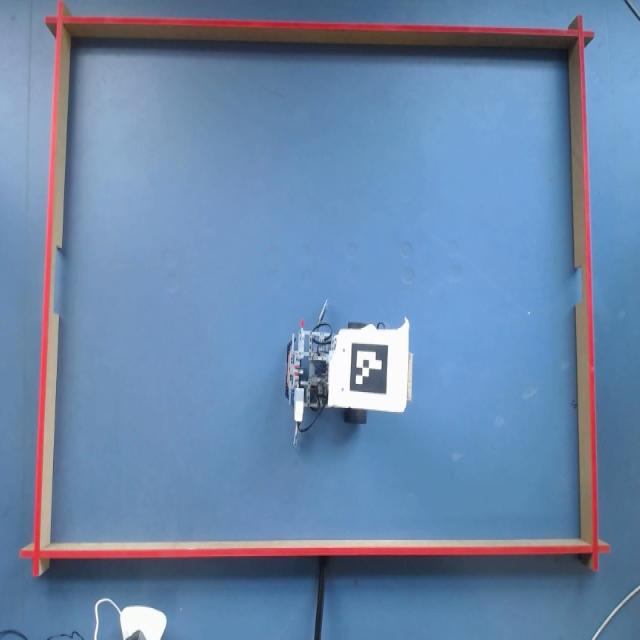ev3: (285, 305, 414, 441)
